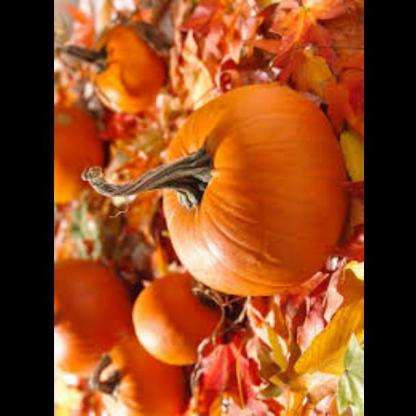pumpkin: (150, 79, 345, 300), (52, 253, 131, 379), (79, 16, 170, 118), (128, 275, 221, 368), (90, 334, 193, 416), (52, 100, 120, 211)
